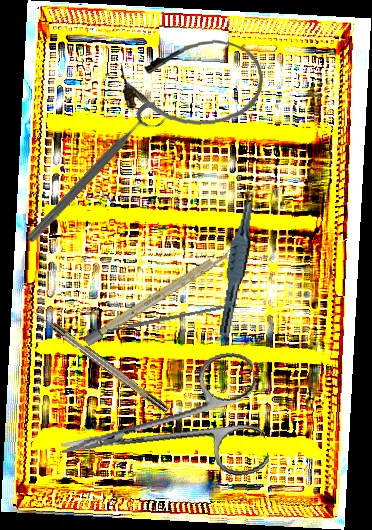Cannula: (119, 36, 266, 131)
Fixation Ring: (22, 97, 171, 254)
Hook Surgical: (25, 303, 170, 415)
Iris Scissors: (49, 348, 272, 506)
Scalpel Handle: (83, 246, 234, 347), (106, 302, 238, 333)
Tissue Forceps: (218, 186, 259, 338)
